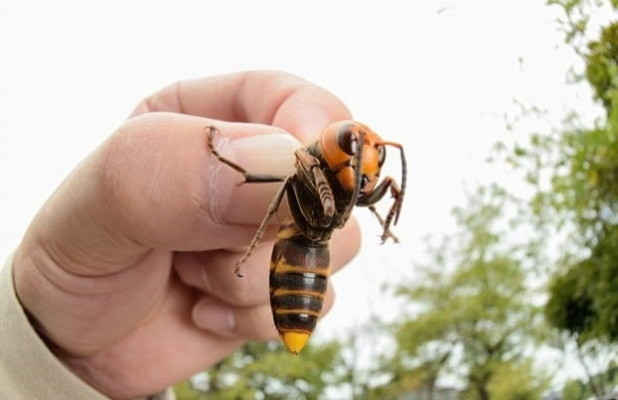asian_giant_hornet: (201, 111, 407, 350)
